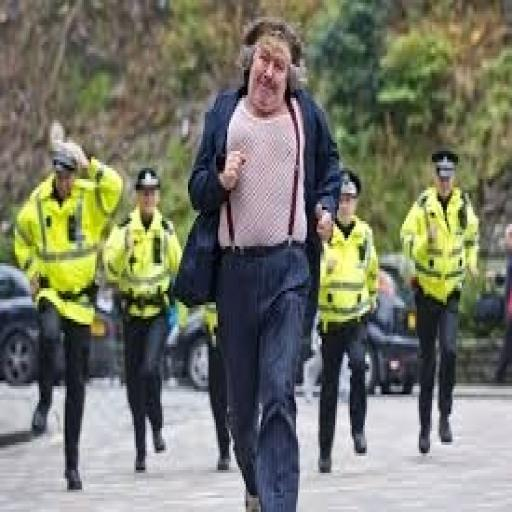running: (186, 17, 343, 509), (11, 134, 125, 496), (101, 165, 186, 476), (397, 146, 482, 456), (312, 165, 382, 476)
